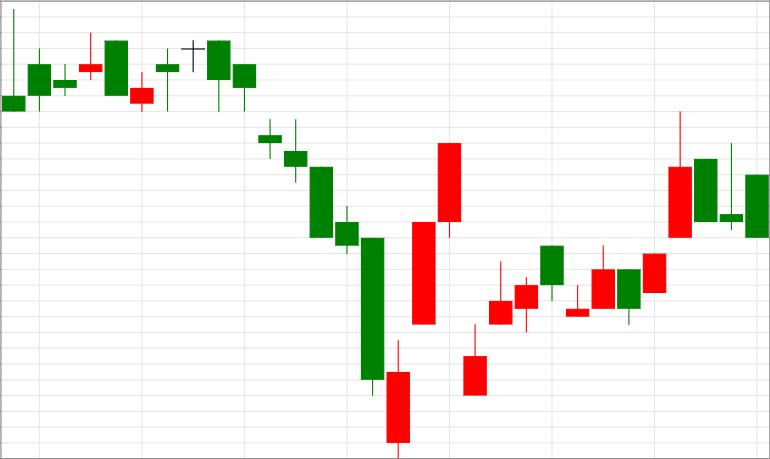three_white_soldiers_rise: (233, 64, 462, 458)
